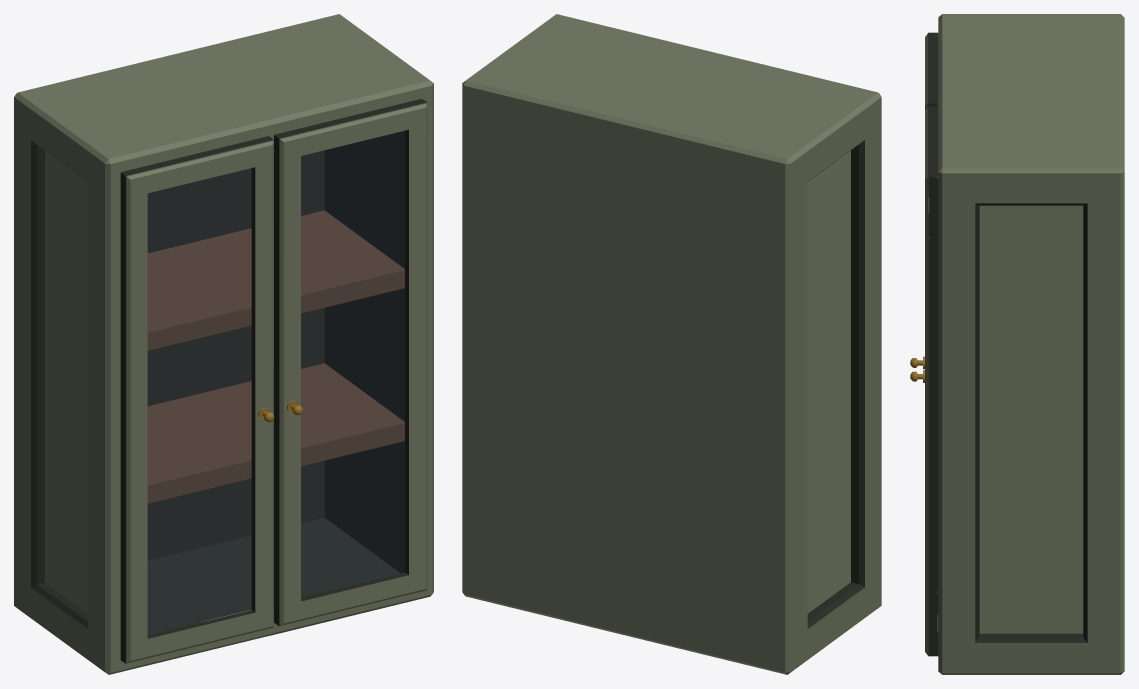
File: HangingCabinetwithGlass.obj
3 views of the same model, side by side, from view 1: azimuth 30°, elevation 25°; view 2: azimuth 150°, elevation 25°; view 3: azimuth 270°, elevation 25° (orthographic).
Parts seen in each view (by area): view 1: Hanging_Cabinet_with_Glass_Hanging_Cabinet, Hanging_Cabinet_with_Glass_Hanging_Cabinet_Glass; view 2: Hanging_Cabinet_with_Glass_Hanging_Cabinet; view 3: Hanging_Cabinet_with_Glass_Hanging_Cabinet.
Part boxes in pixels (bbox=[...]): Hanging_Cabinet_with_Glass_Hanging_Cabinet: bbox=[14, 14, 433, 674]; Hanging_Cabinet_with_Glass_Hanging_Cabinet_Glass: bbox=[148, 131, 404, 634]; Hanging_Cabinet_with_Glass_Hanging_Cabinet: bbox=[462, 14, 881, 674]; Hanging_Cabinet_with_Glass_Hanging_Cabinet: bbox=[910, 14, 1124, 674].
Size of the model in its own units: 1 by 1.5 by 0.5747.
2 materials, 1 textured.
